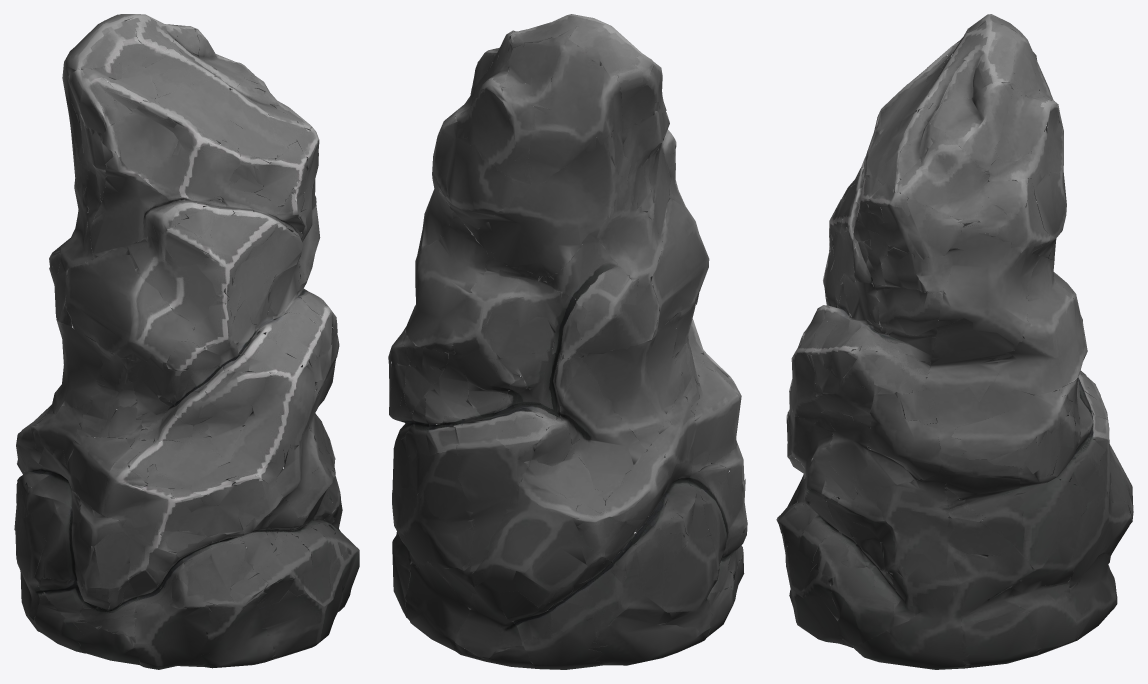
The model's file is column_2.glb.
3 views of the same model, side by side, from view 1: azimuth 30°, elevation 25°; view 2: azimuth 150°, elevation 25°; view 3: azimuth 270°, elevation 25° (orthographic). The views are drawn at different scales.
Parts seen in each view (by area): view 1: Mesh_0.001; view 2: Mesh_0.001; view 3: Mesh_0.001.
Part boxes in pixels (left/top/right/bottom): Mesh_0.001: left=14, top=14, right=359, bottom=669; Mesh_0.001: left=388, top=14, right=747, bottom=669; Mesh_0.001: left=776, top=14, right=1133, bottom=669.
Bounding box in the file's own units: 0.9931 × 1.9 × 1.09.
1 material, 1 textured.
